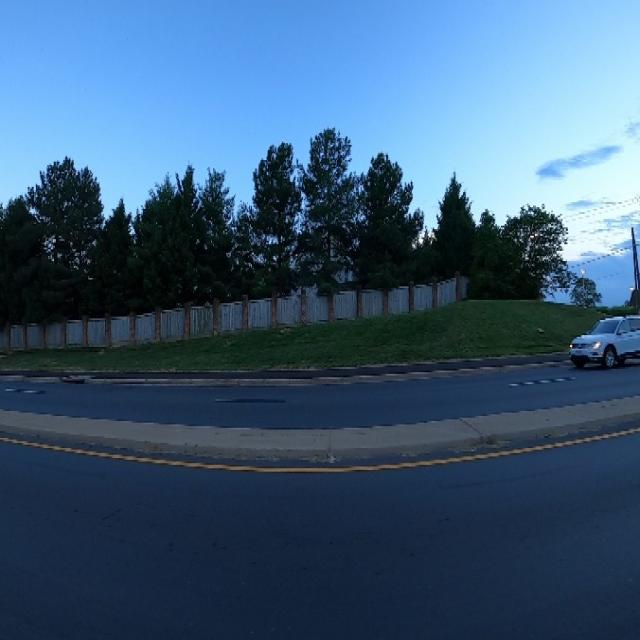car: (568, 300, 640, 389)
